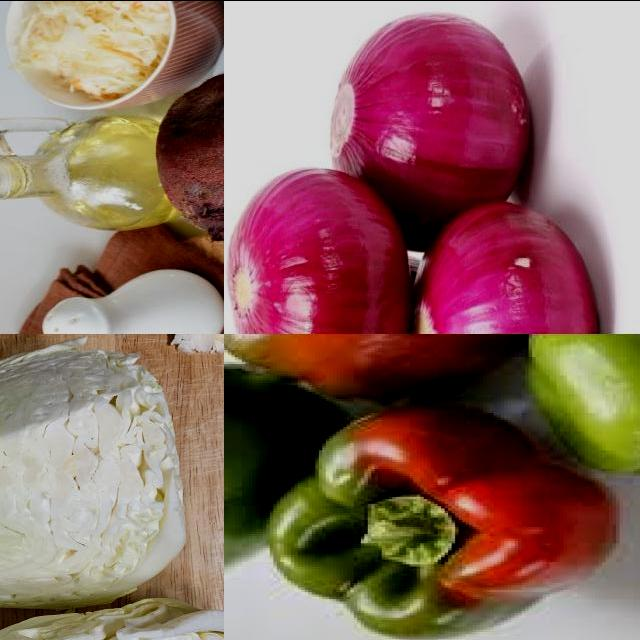beet: (186, 69, 225, 252)
bell_pepper: (246, 412, 640, 640), (225, 334, 640, 425), (225, 348, 350, 596), (515, 334, 640, 495)
cabbage: (1, 344, 179, 612)
onion: (328, 9, 542, 253), (225, 165, 416, 334), (412, 200, 605, 334), (308, 240, 455, 334)
